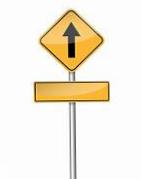forward: (37, 9, 104, 72)
